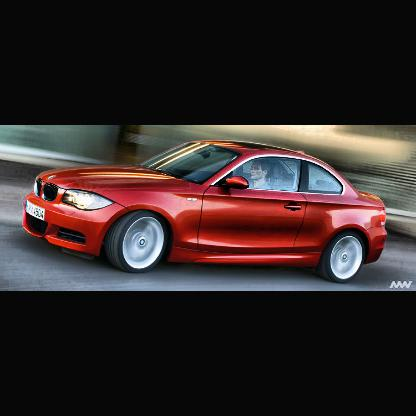BMW 1 Series Coupe 2012: (16, 135, 404, 289)
